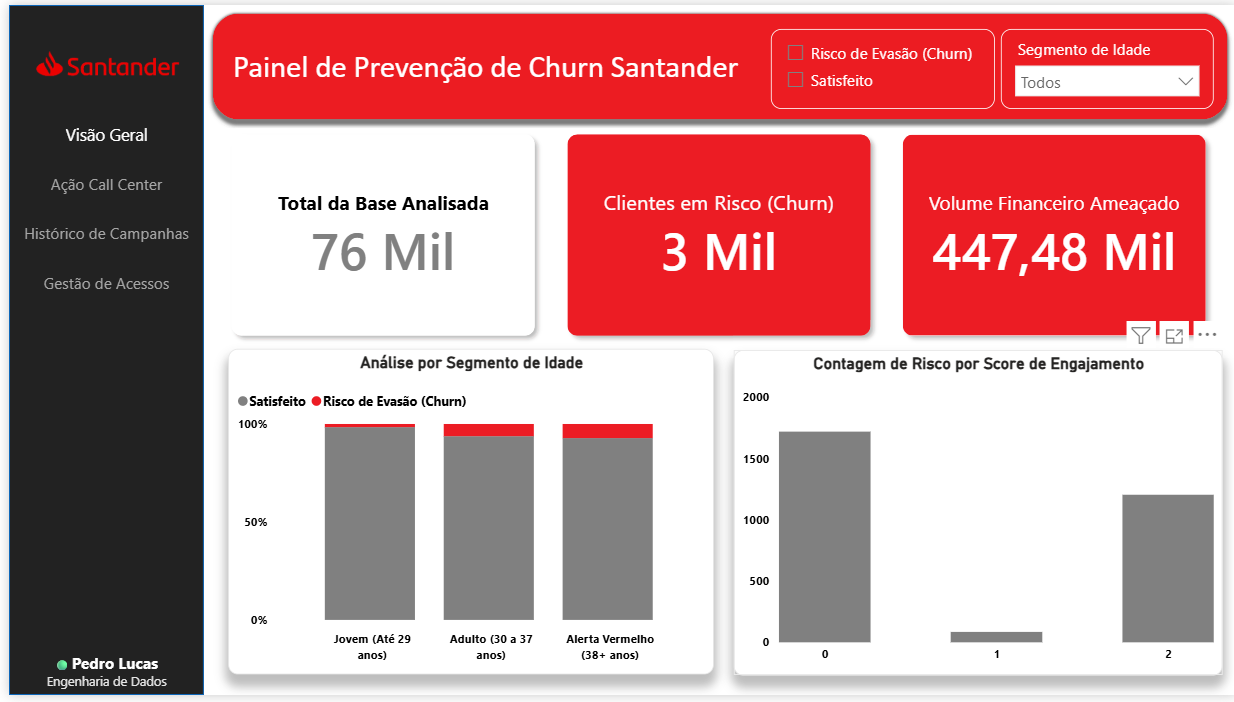

The page's visual inventory and layout, read from the dashboard file:
{"tool":"powerbi","page":{"name":"Visão Geral","canvas":[1280,720],"ordinal":0},"visuals":[{"type":"cardVisual","fields":{"Data":["public vw_analise_churn_santander.Total_Clientes","public vw_analise_churn_santander.Clientes_Em_Risco","public vw_analise_churn_santander.Volume_Ameacado"]},"box":[204,106,1076,268],"z":0},{"type":"hundredPercentStackedColumnChart","title":"Análise por Segmento de Idade","fields":{"Category":["public vw_analise_churn_santander.segmento_idade"],"Series":["public vw_analise_churn_santander.status_cliente"],"Y":["public vw_analise_churn_santander.Total_Clientes"]},"box":[228.3,358.3,506.7,340],"z":1000},{"type":"clusteredColumnChart","title":"Contagem de Risco por Score de Engajamento","fields":{"Category":["public vw_analise_churn_santander.score_engajamento"],"Y":["public vw_analise_churn_santander.Clientes_Em_Risco"]},"box":[756.7,360,510,340],"z":2000},{"type":"shape","box":[203.3,0,1076.7,128.3],"z":3000},{"type":"textbox","box":[228.3,40,546.7,55],"z":4000},{"type":"slicer","fields":{"Values":["public vw_analise_churn_santander.status_cliente"]},"box":[795,25,233.3,83.3],"z":5000},{"type":"slicer","fields":{"Values":["public vw_analise_churn_santander.segmento_idade"]},"box":[1035,25,221.7,83.3],"z":6000},{"type":"shape","box":[0,0,203.3,720],"z":7000},{"type":"image","box":[1.2,23.8,203.8,81.2],"z":8000},{"type":"actionButton","box":[0,113.8,203.8,42.5],"z":9000},{"type":"actionButton","box":[0,167.5,203.8,38.8],"z":10000},{"type":"actionButton","box":[0,217.5,203.8,40],"z":11000},{"type":"actionButton","box":[0,268.8,203.8,41.2],"z":12000},{"type":"textbox","box":[0,670,203.8,50],"z":13000}]}

Visuals, with their boxes on the page's 1280x720 design canvas (x1, y1, x2, y2). These are canvas units, not pixel positions in the 1234x702 screenshot, which may show the page scaled, cropped or inside an application window:
cardVisual - public vw_analise_churn_santander.Total_Clientes x public vw_analise_churn_santander.Clientes_Em_Risco: [204,106,1280,374]
"Análise por Segmento de Idade" hundredPercentStackedColumnChart: [228,358,735,698]
"Contagem de Risco por Score de Engajamento" clusteredColumnChart: [757,360,1267,700]
shape: [203,0,1280,128]
textbox: [228,40,775,95]
slicer - public vw_analise_churn_santander.status_cliente: [795,25,1028,108]
slicer - public vw_analise_churn_santander.segmento_idade: [1035,25,1257,108]
shape: [0,0,203,720]
image: [1,24,205,105]
actionButton: [0,114,204,156]
actionButton: [0,168,204,206]
actionButton: [0,218,204,258]
actionButton: [0,269,204,310]
textbox: [0,670,204,720]
